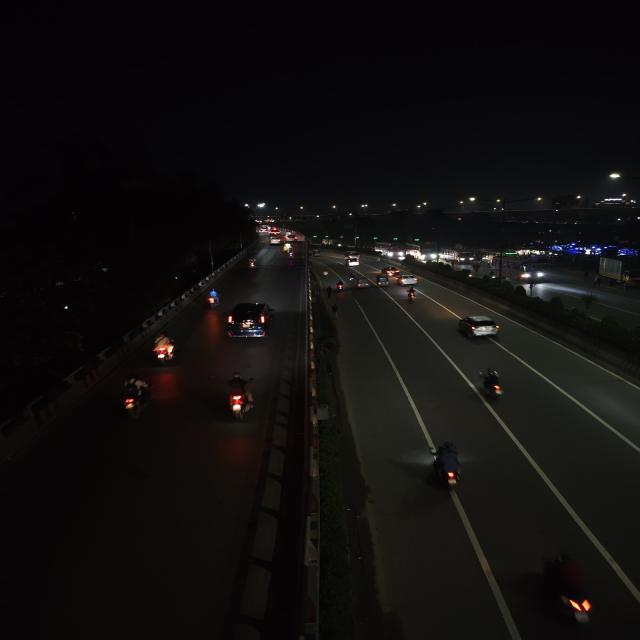bus: (487, 255, 547, 283), (444, 250, 477, 266), (379, 243, 409, 259), (415, 244, 438, 261)
car: (224, 300, 275, 340), (456, 313, 501, 341), (395, 274, 420, 286), (380, 266, 399, 277), (268, 236, 284, 247), (285, 233, 298, 242)
cng: (374, 273, 390, 288), (356, 276, 369, 289)
motorcycle: (422, 439, 476, 496), (220, 370, 260, 422), (115, 375, 155, 425), (148, 332, 182, 368), (477, 366, 508, 403), (203, 288, 222, 310), (405, 287, 419, 303), (246, 256, 259, 271), (284, 247, 295, 259), (335, 280, 345, 292)
pedestrian: (329, 302, 342, 319), (325, 286, 334, 300), (320, 268, 330, 279)
truck: (596, 255, 640, 288)
